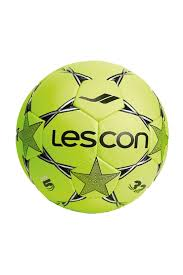top: (15, 48, 176, 227)
